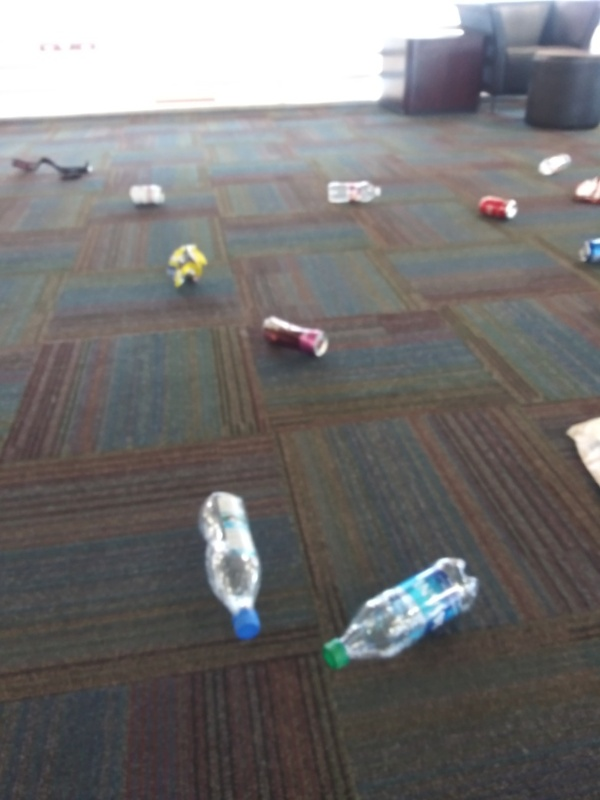bag: (562, 411, 600, 497), (163, 243, 218, 290), (568, 173, 600, 211)
bottle: (319, 554, 481, 675), (194, 487, 267, 644), (324, 178, 386, 207), (534, 148, 578, 178)
can: (257, 312, 331, 361), (475, 192, 523, 225), (123, 180, 168, 208), (577, 235, 600, 270)
